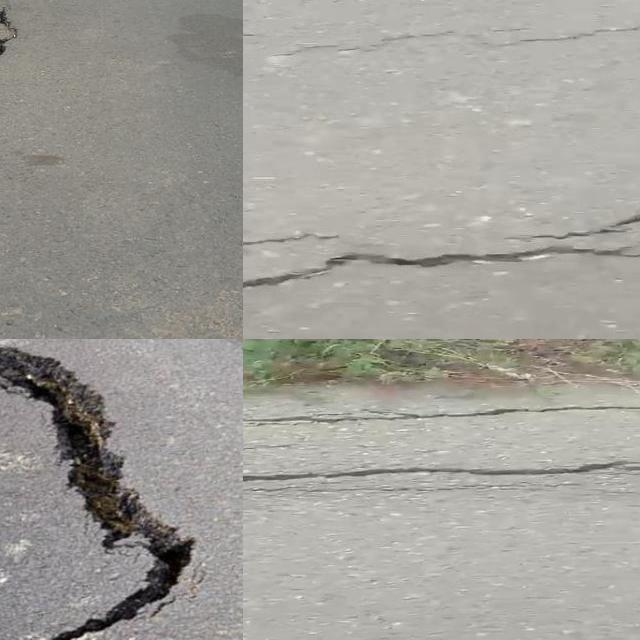Melintang: (243, 210, 640, 318), (243, 458, 640, 497), (243, 393, 640, 431)
Pinggir: (0, 339, 219, 640)
